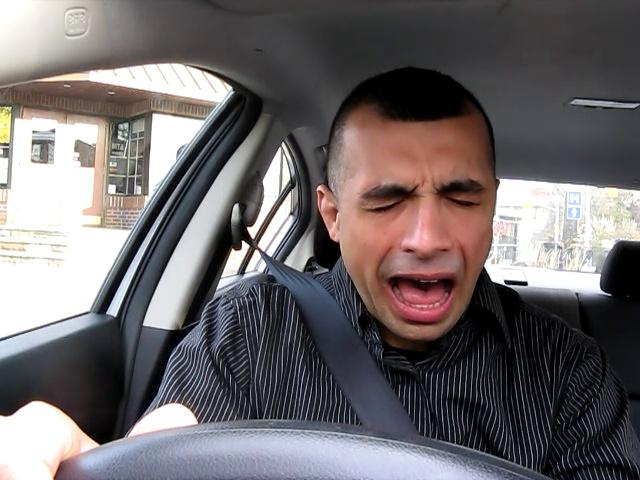close_eyeL: (350, 188, 418, 230)
close_eyeR: (435, 187, 491, 220)
yawn: (374, 260, 470, 324)
